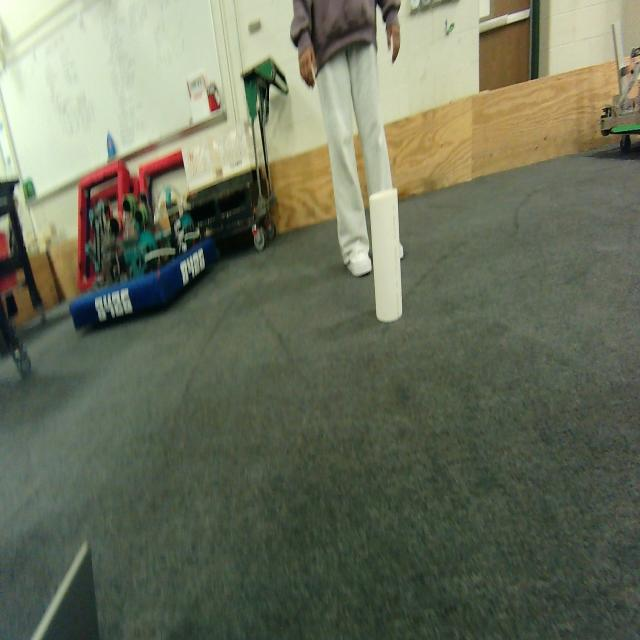coral: (369, 188, 403, 322)
